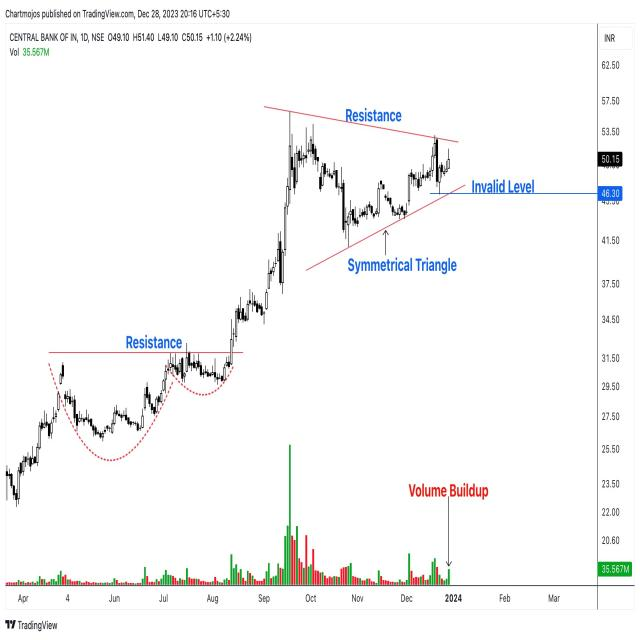Cup-and-handle: (48, 352, 246, 461)
